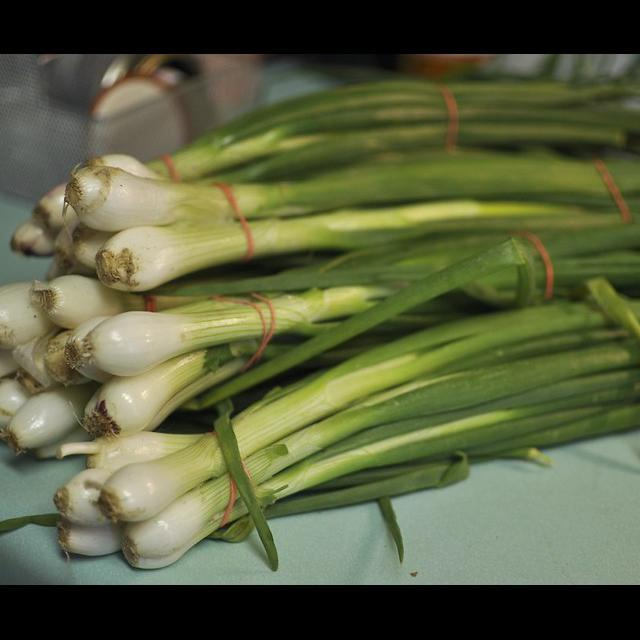green_onion: (0, 80, 640, 570), (245, 338, 640, 518), (233, 304, 608, 458), (95, 200, 574, 292), (82, 286, 391, 377), (231, 154, 614, 220), (82, 344, 249, 438), (122, 480, 251, 570), (99, 436, 227, 523), (67, 166, 238, 231), (58, 432, 201, 474), (0, 282, 55, 350), (607, 161, 640, 193)
